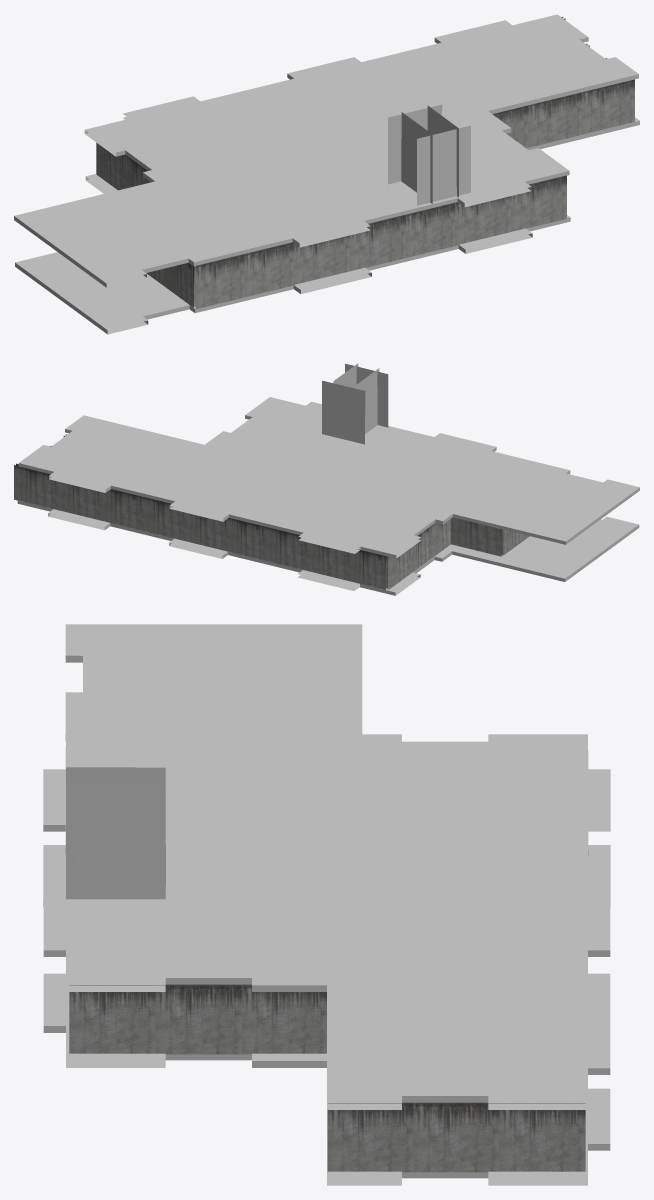
File: basement.gltf
3 renders of one model, top to bottom at view 1: azimuth 30°, elevation 25°; view 2: azimuth 150°, elevation 25°; view 3: azimuth 270°, elevation 25°, orthographic. The views are drawn at different scales.
Parts seen in each view (by area): view 1: Basement, BasementSide; view 2: Basement, BasementSide; view 3: Basement, BasementSide.
Boxes of the visible parts, x1,y1,x2,y2 form: Basement: (14, 14, 639, 334); BasementSide: (96, 17, 634, 308); Basement: (17, 363, 639, 595); BasementSide: (14, 434, 529, 589); Basement: (43, 624, 610, 1185); BasementSide: (69, 984, 585, 1172).
Size of the model in its own units: 60.02 by 11.17 by 29.74.
